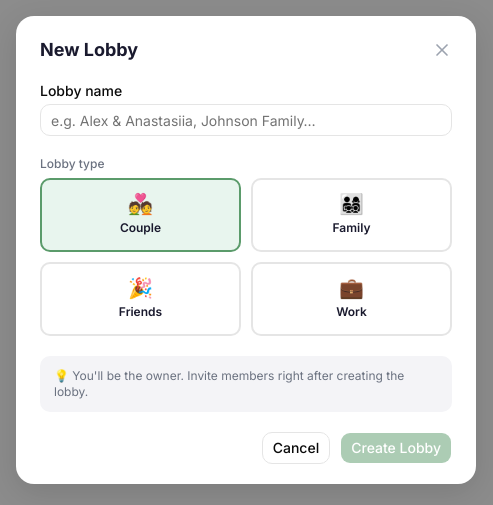
CreateLobbyModal › disables the submit button until a name is entered
Check: the button "Create Lobby" is disabled, box [340,432,452,464]
Type "Weekend Crew" into the field labelled "Lobby name" at (246, 120), box [40,104,452,136]
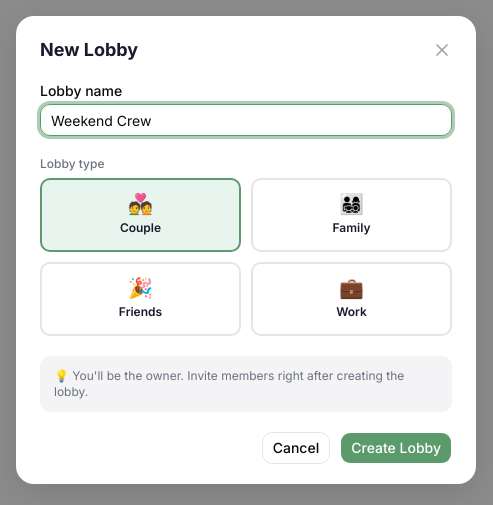
Check: the button "Create Lobby" is enabled, box [340,432,452,464]
